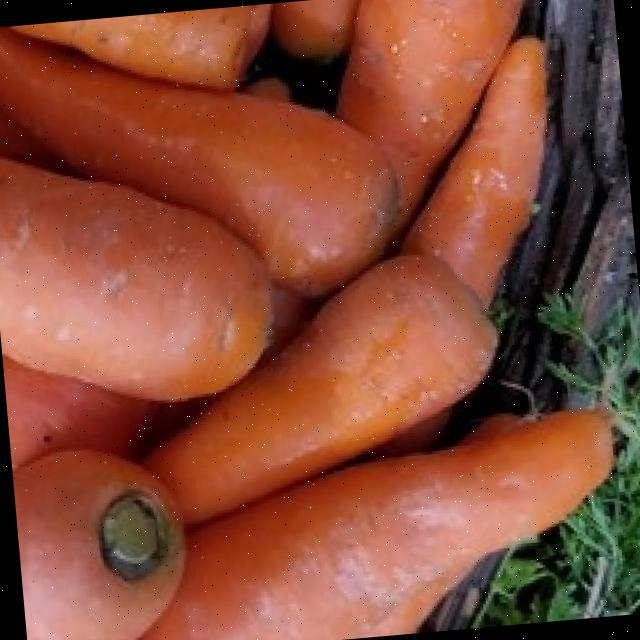carrot: (0, 0, 606, 640)
